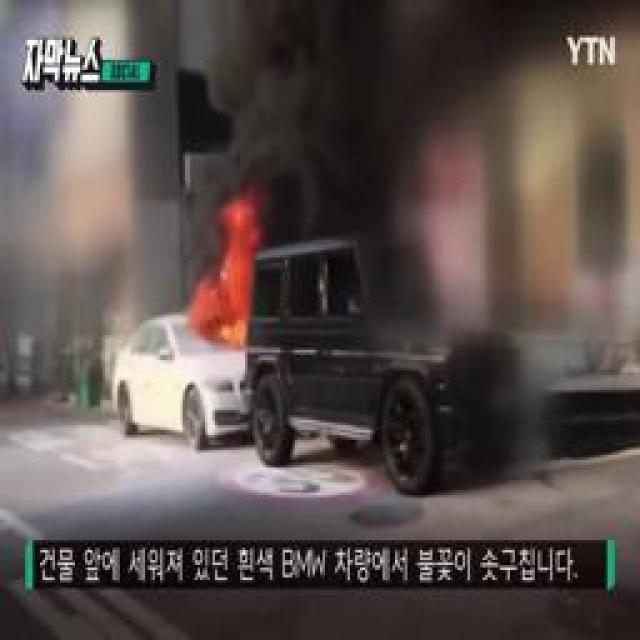Fire: (202, 288, 250, 354)
